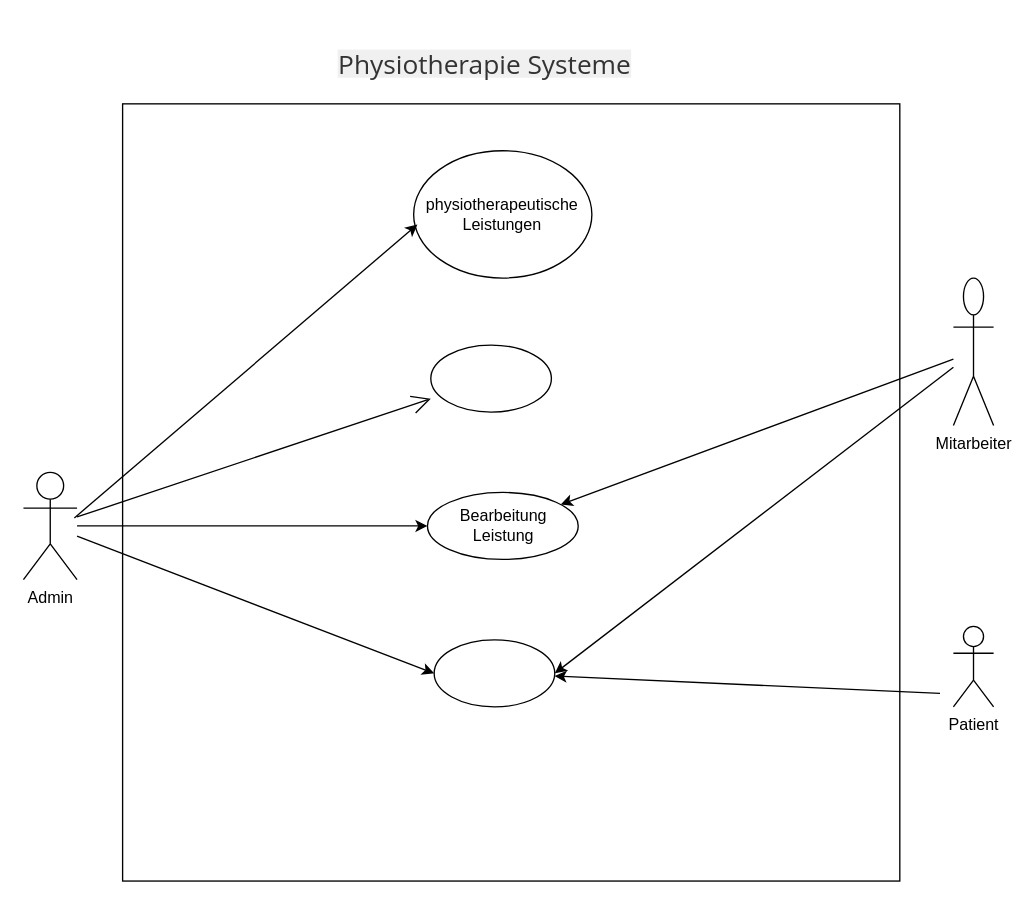
Some shapes in this 1034 by 905 pixel diagram are drawn without their labels. Each missing label, with the box of its shape:
Leistung ansehen: (433, 639, 555, 707)
Leistung löschen: (429, 344, 551, 412)
